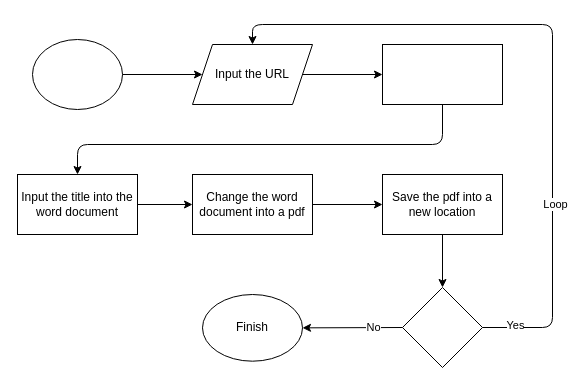
Some shapes in this 584 by 385 pixel diagram are drawn without their labels. Here are the shapes that lost their labels. From the top down, the centre of each, then its label:
At point 77,74: "Start".
At point 442,74: "Scrape the title from the webpage".
At point 442,327: "Ask if you want to do another".
